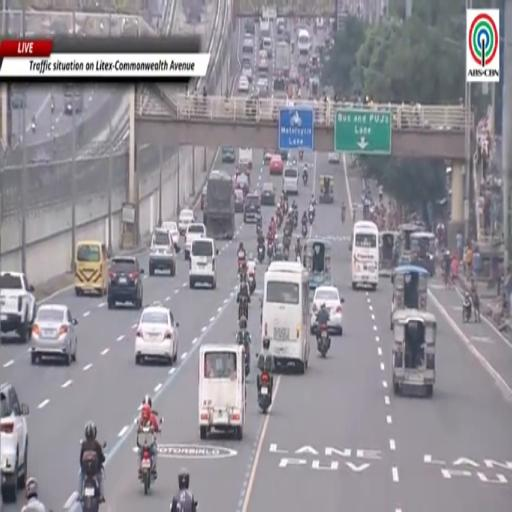bus: (262, 262, 310, 374), (352, 221, 379, 290), (297, 29, 311, 67), (259, 19, 271, 38)
car: (0, 382, 28, 502), (31, 304, 77, 365), (135, 303, 179, 364), (0, 272, 35, 342), (108, 255, 143, 309), (310, 285, 344, 334), (189, 238, 218, 289), (149, 229, 176, 276), (185, 223, 206, 260), (243, 193, 261, 223), (161, 221, 179, 249), (179, 208, 194, 235), (236, 172, 249, 196), (261, 183, 275, 205), (270, 154, 283, 174), (256, 78, 269, 97), (234, 189, 244, 213), (221, 147, 236, 163), (258, 51, 268, 71), (243, 35, 253, 54), (242, 66, 253, 83), (238, 76, 249, 92), (201, 182, 207, 211), (245, 19, 255, 35), (278, 149, 290, 162), (264, 149, 273, 165), (242, 56, 253, 69), (328, 152, 339, 164)
jeepney: (392, 310, 436, 396), (391, 265, 429, 328), (304, 238, 331, 289), (411, 232, 435, 276), (379, 231, 398, 276), (399, 223, 421, 261)
motorcycle: (80, 451, 101, 511), (138, 426, 156, 494), (237, 332, 250, 376), (258, 372, 271, 413), (317, 325, 330, 358), (239, 295, 248, 321), (463, 297, 472, 323), (257, 244, 265, 264), (248, 272, 255, 294), (238, 258, 245, 276), (267, 244, 273, 260), (256, 216, 262, 231), (308, 210, 314, 225), (292, 211, 297, 229), (302, 223, 308, 237), (283, 247, 289, 261), (303, 170, 308, 185), (298, 150, 304, 161), (50, 101, 54, 114), (31, 122, 35, 133), (342, 210, 345, 223)
truck: (204, 172, 235, 239), (275, 41, 291, 76), (239, 149, 253, 170)
